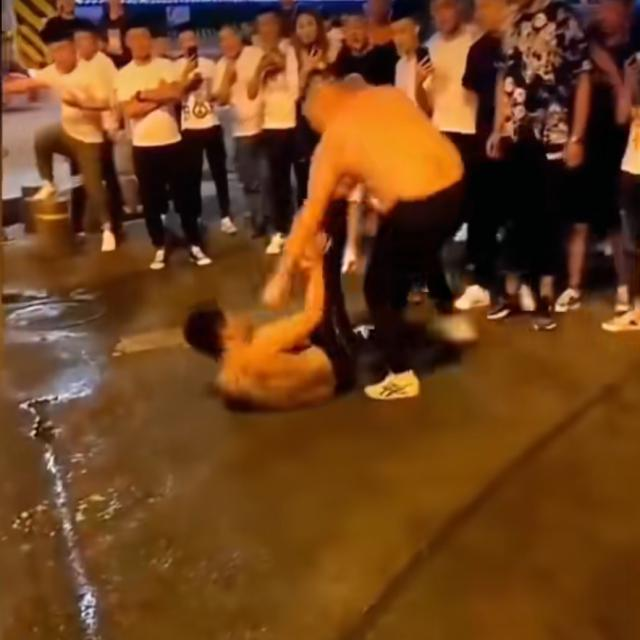fight: (178, 194, 359, 407)
nofight: (120, 22, 210, 270), (26, 15, 117, 256), (508, 0, 572, 326), (250, 16, 311, 200), (210, 16, 268, 208), (421, 0, 484, 153)
